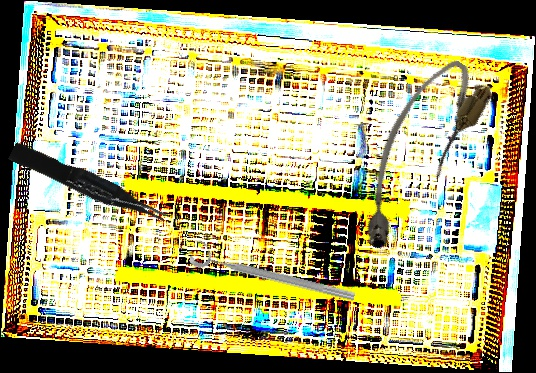Cannula: (332, 49, 500, 259)
Fixation Ring: (188, 237, 359, 307)
Tissue Forceps: (8, 135, 168, 235)
